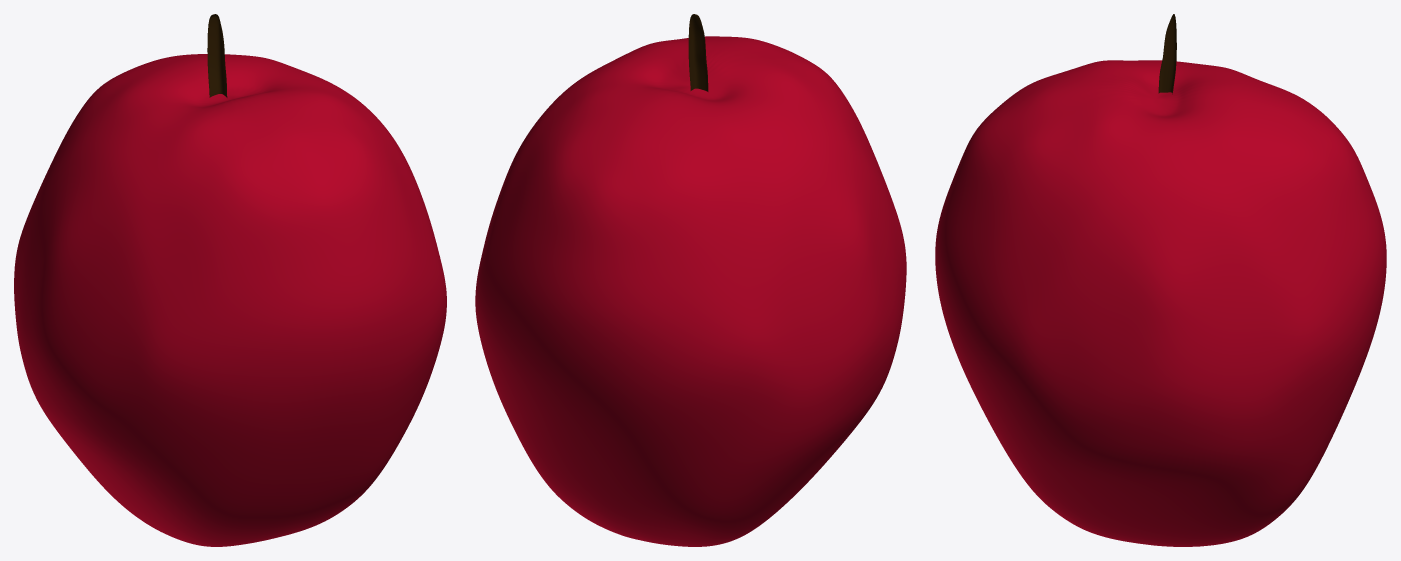
Rendered from Apple.fbx.
3 views of the same model, side by side, from view 1: azimuth 30°, elevation 25°; view 2: azimuth 150°, elevation 25°; view 3: azimuth 270°, elevation 25° (orthographic).
Visible parts, largest first — view 1: Apple; view 2: Apple; view 3: Apple.
Boxes of the visible parts, x1,y1,x2,y2 form: Apple: (14, 14, 446, 546); Apple: (475, 14, 906, 546); Apple: (935, 14, 1386, 546).
Bounding box in the file's own units: 135 × 175 × 143.
